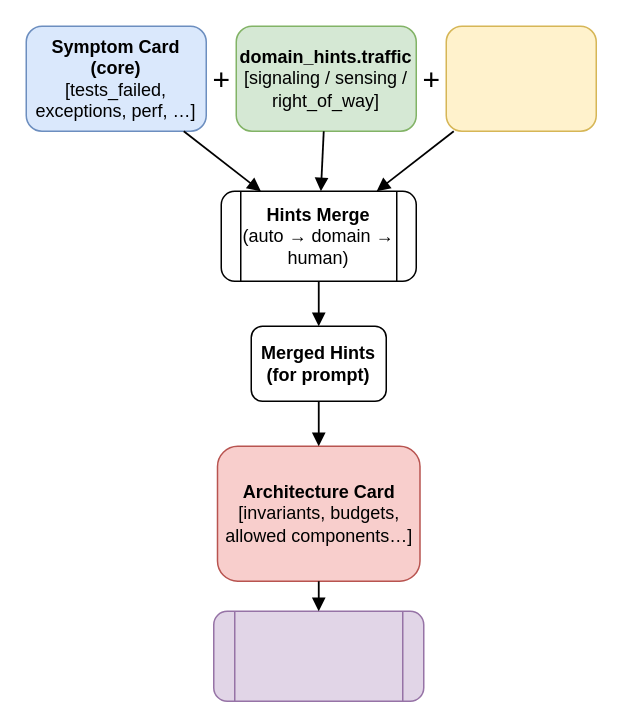
Some shapes in this 623 by 728 pixel diagram are drawn without their labels. Each missing label, with the centre of its shape:
human_hints [free-form + structured, overrides allowed]: (520,78)
Prompt Assembler (T0..T3): (318,655)
